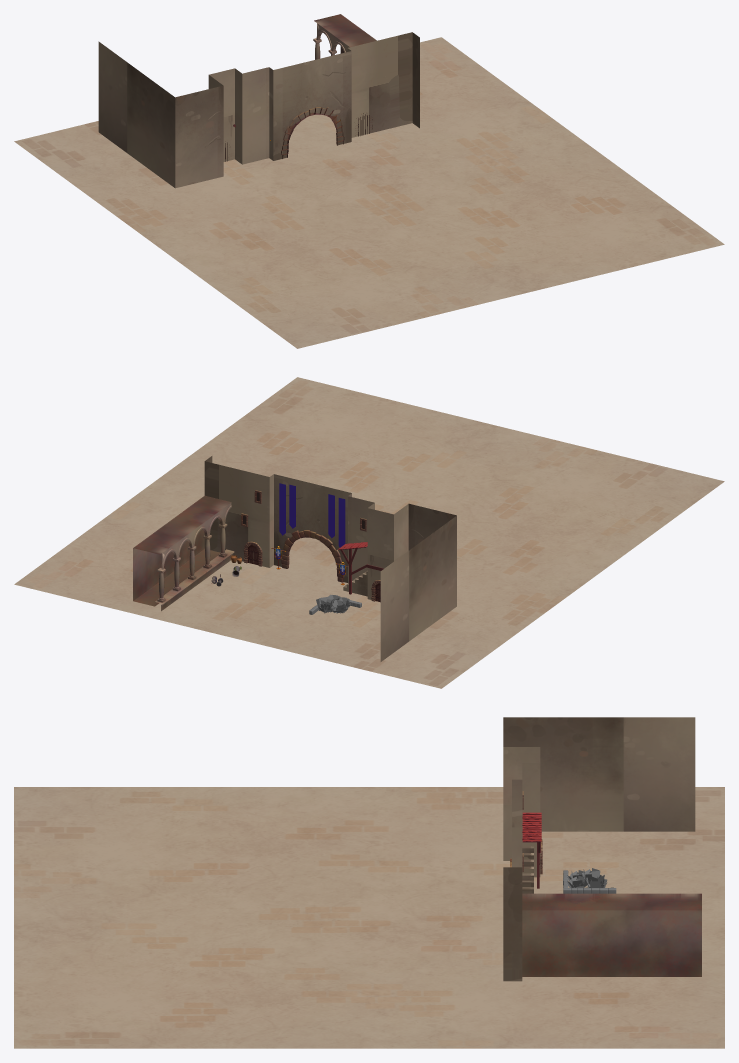
File: CenarioNovo.fbx
3 views of the same model, one above another, from view 1: azimuth 30°, elevation 25°; view 2: azimuth 150°, elevation 25°; view 3: azimuth 270°, elevation 25° (orthographic). The views are drawn at different scales.
Parts seen in each view (by area): view 1: SM_Chao_Seleca, SM_Parede_Selecao, SM_Pergolado_Selecao; view 2: SM_Chao_Seleca, SM_Parede_Selecao, SM_Pergolado_Selecao, SM_Bandeiras_Selecao, SM_Arco_Selecao; view 3: SM_Chao_Seleca, SM_Parede_Selecao, SM_Pergolado_Selecao, SM_Telhadinho_Selecao.
Boxes of the visible parts, x1,y1,x2,y2 form: SM_Chao_Seleca: (14, 37, 724, 348); SM_Parede_Selecao: (98, 32, 419, 188); SM_Pergolado_Selecao: (313, 14, 376, 59); SM_Chao_Seleca: (14, 377, 724, 688); SM_Parede_Selecao: (204, 456, 456, 661); SM_Pergolado_Selecao: (133, 495, 234, 611); SM_Bandeiras_Selecao: (279, 483, 345, 547); SM_Arco_Selecao: (281, 530, 344, 582); SM_Chao_Seleca: (14, 787, 724, 1048); SM_Parede_Selecao: (503, 717, 695, 981); SM_Pergolado_Selecao: (522, 893, 701, 976); SM_Telhadinho_Selecao: (522, 812, 541, 888).
Bounding box in the file's own units: 7254 × 1531 × 8328.
14 materials, 13 textured.
